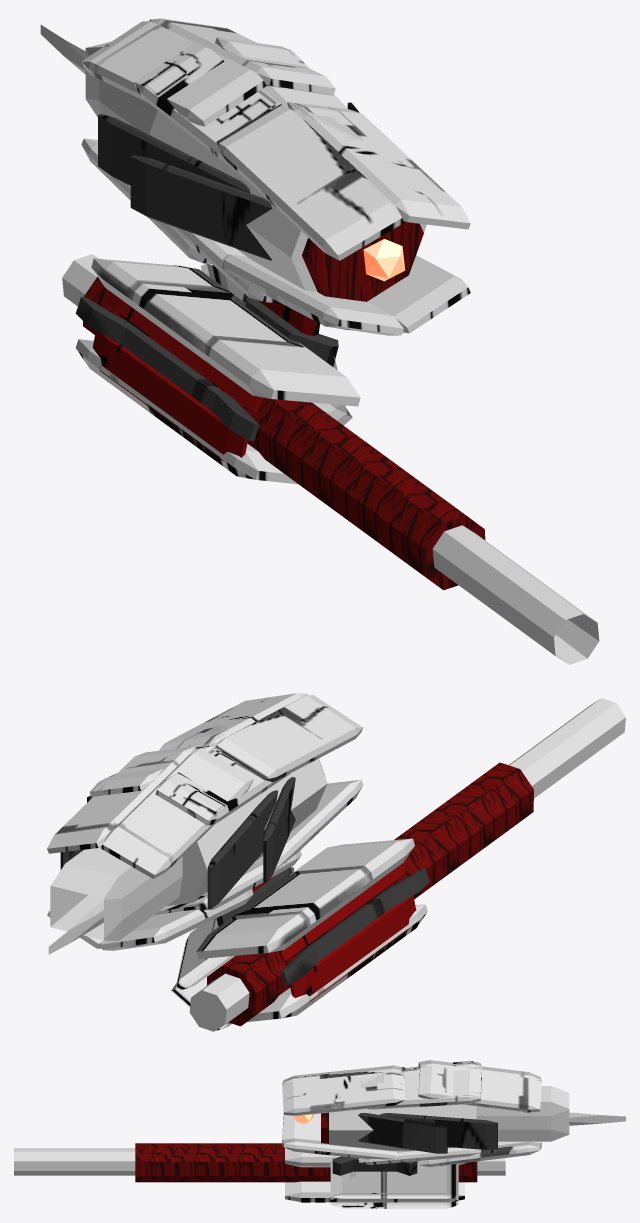
File: zalek_drone_light.gltf
3 views of the same model, one above another, from view 1: azimuth 30°, elevation 25°; view 2: azimuth 150°, elevation 25°; view 3: azimuth 270°, elevation 25° (orthographic). The views are drawn at different scales.
Visible parts, largest first — view 1: base_glow; view 2: base_glow; view 3: base_glow.
Part boxes in pixels (x1,y1,x2,y2): base_glow: (40, 18, 599, 664); base_glow: (47, 693, 625, 1031); base_glow: (14, 1060, 625, 1208).
Size of the model in its own units: 2.32 by 2.63 by 9.24.
Materials: 6 (4 with a texture image).
